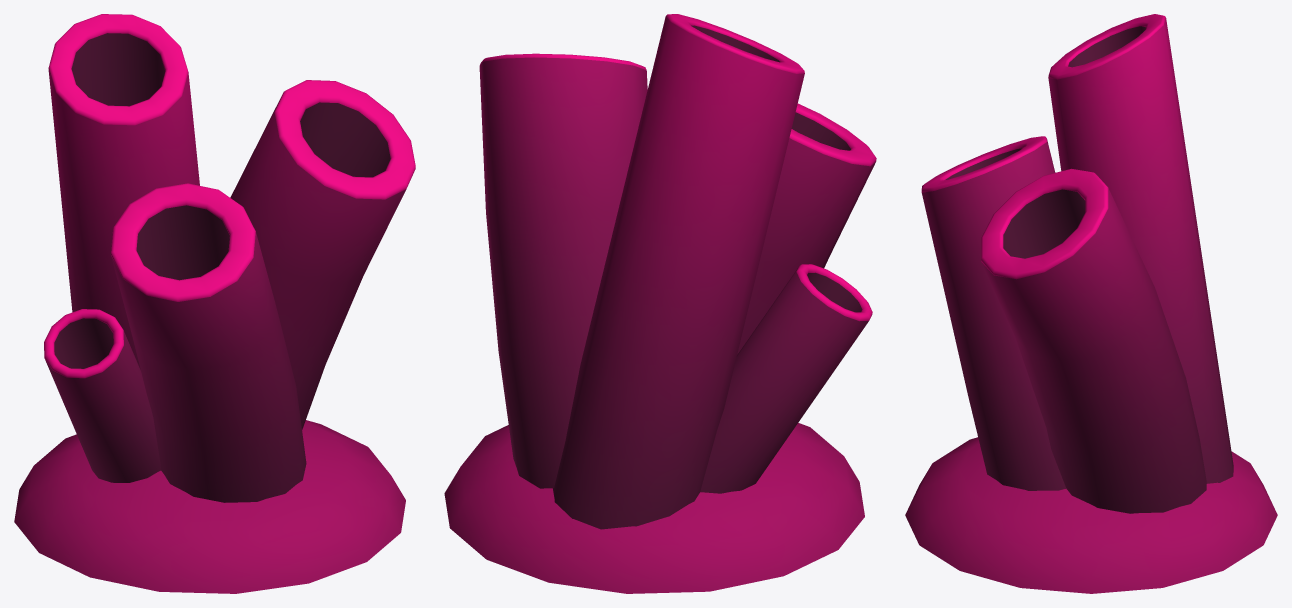
The model's file is M_Moss_2.fbx.
3 renders of one model, left to right at view 1: azimuth 30°, elevation 25°; view 2: azimuth 150°, elevation 25°; view 3: azimuth 270°, elevation 25°, orthographic. The views are drawn at different scales.
Parts seen in each view (by area): view 1: M_moss; view 2: M_moss; view 3: M_moss.
Part boxes in pixels (x1=…): M_moss: x1=14, y1=14, x2=415, y2=593; M_moss: x1=444, y1=14, x2=876, y2=593; M_moss: x1=905, y1=14, x2=1277, y2=593.
Bounding box in the file's own units: 355 × 466 × 343.
